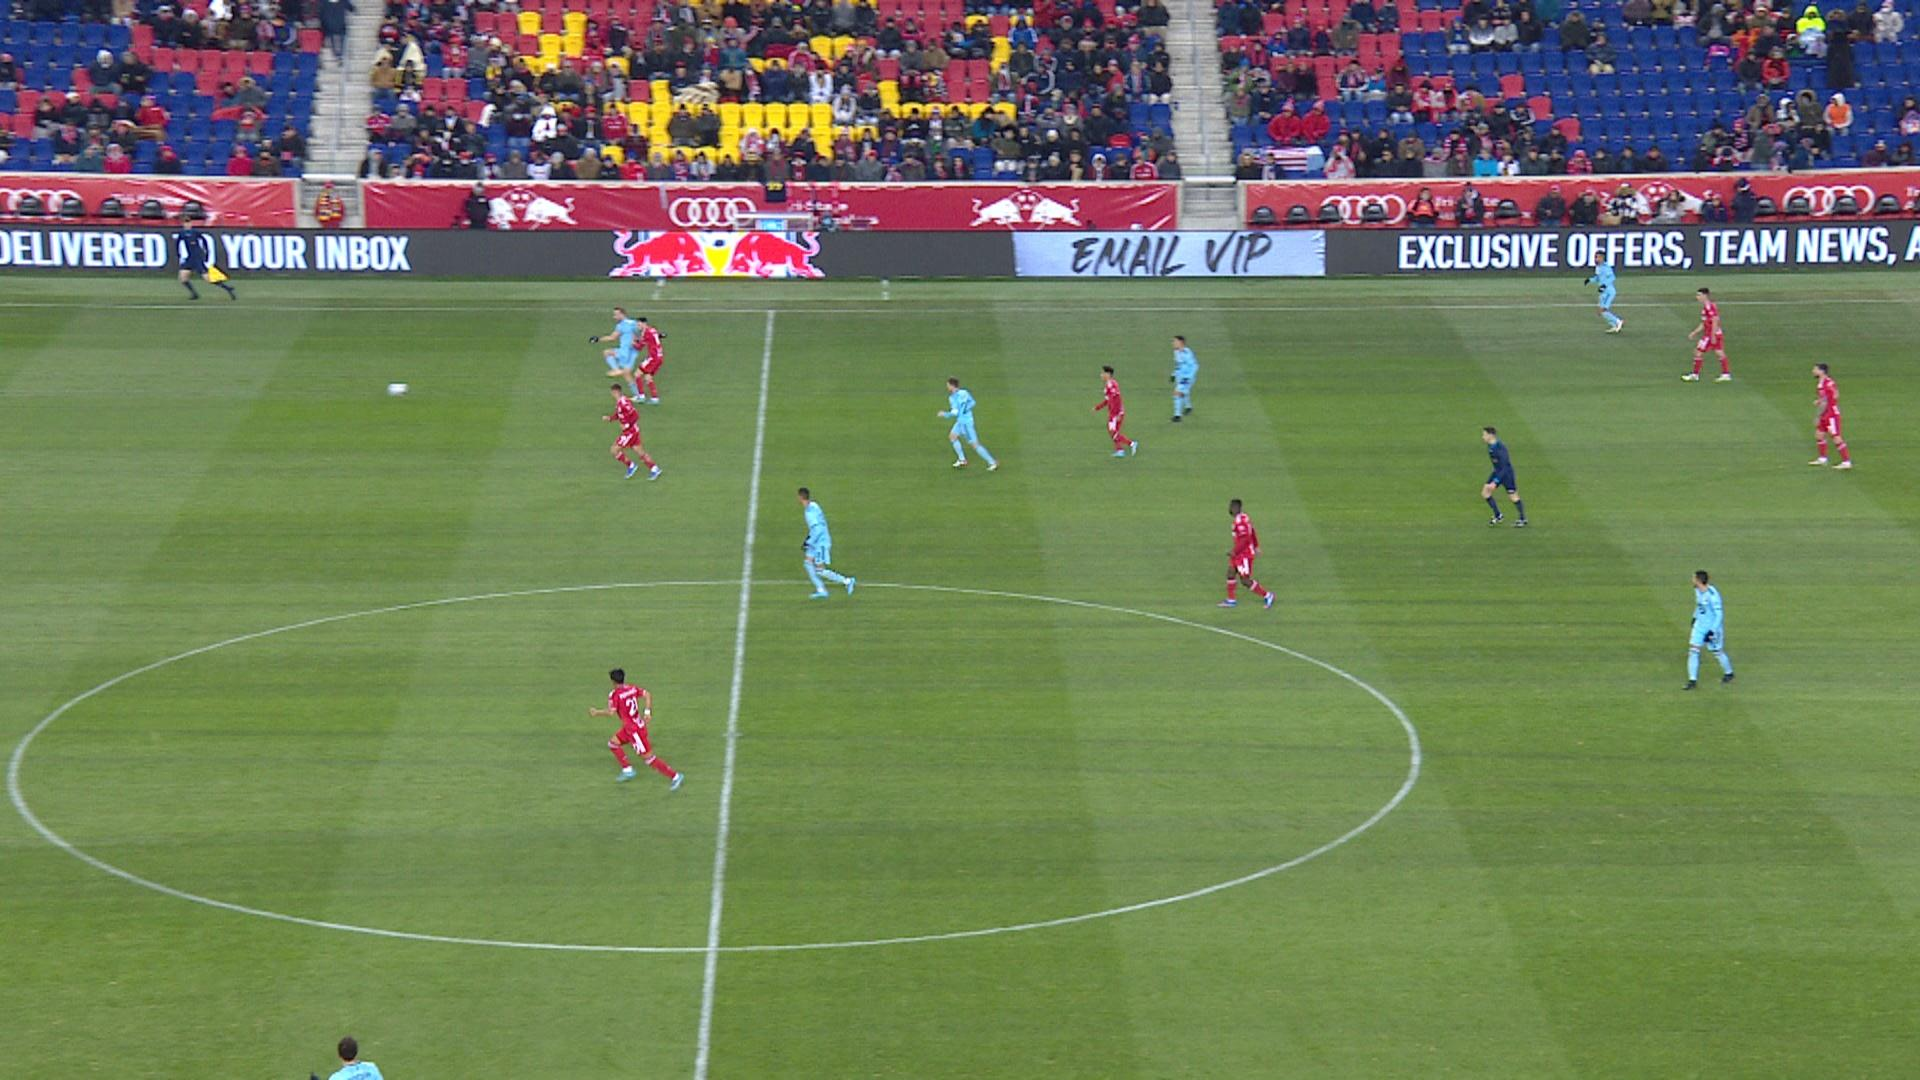football: (386, 382, 409, 397)
